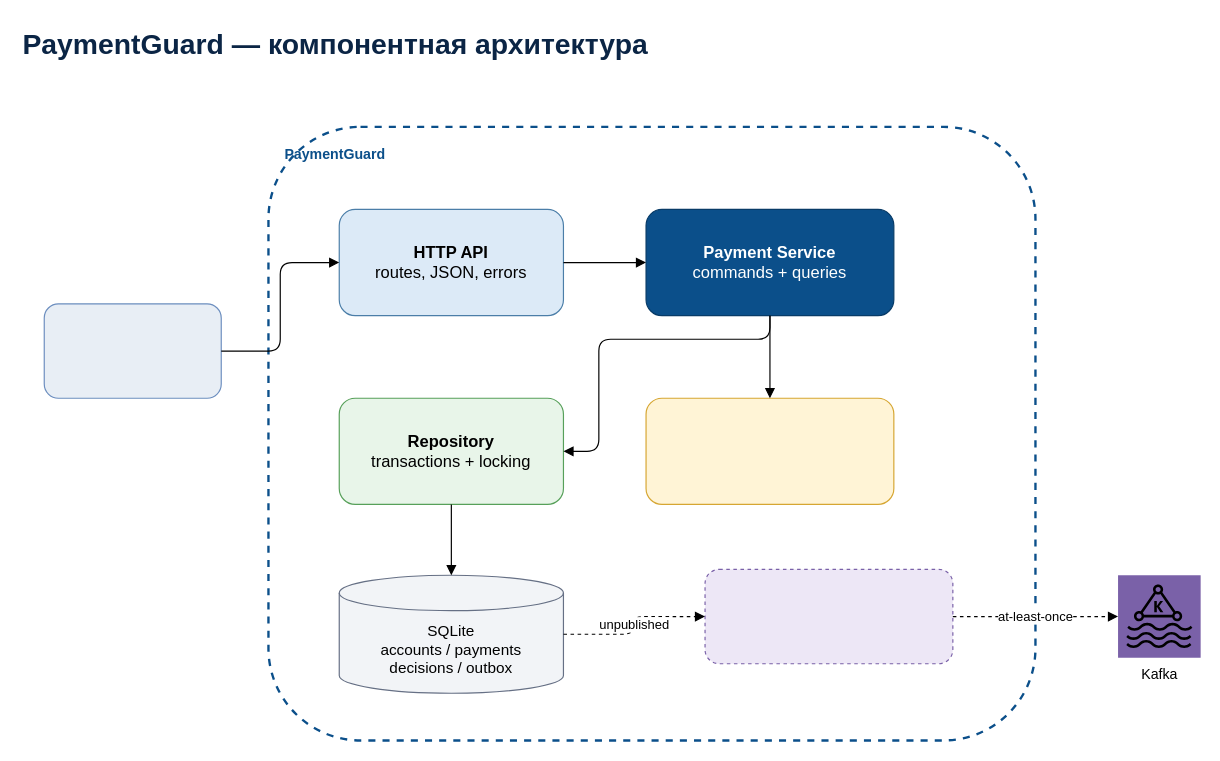
Image size: 1220x761. Some labels were removed from this diagram. The shapes that lost their labels are listed below. From the top down, each one's centre as x and y in pixels, then its label:
(132,350): Web UI HTML / CSS / JS
(769,450): Rules validation, risk, state
(828,616): Outbox Publisher целевая версия
